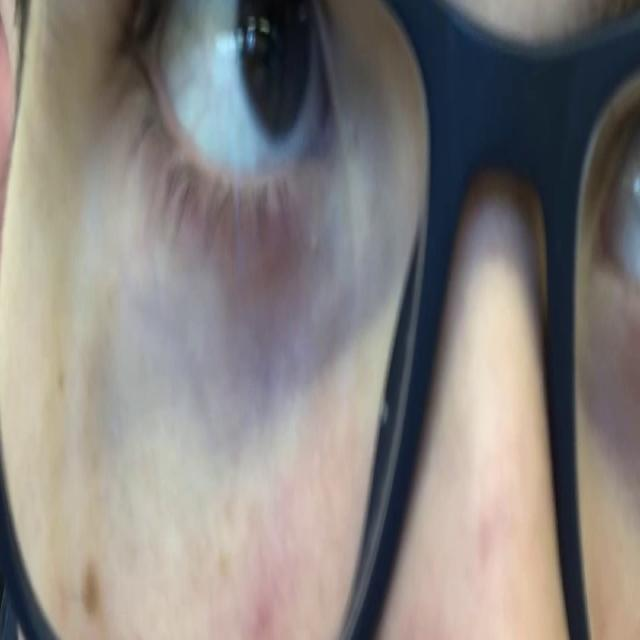eye: (112, 0, 368, 314)
gaze: (236, 0, 317, 142)
